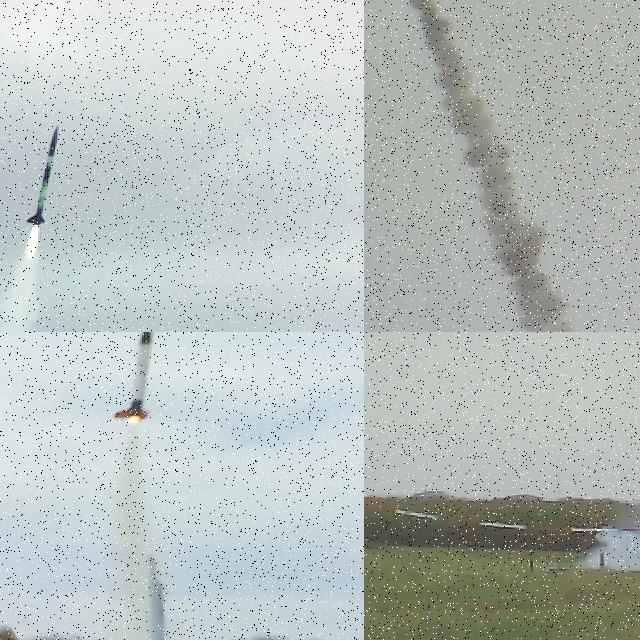Rocket: (113, 332, 155, 422), (25, 124, 60, 226)
